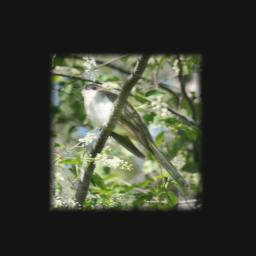Cuckoo: (72, 82, 193, 194)
